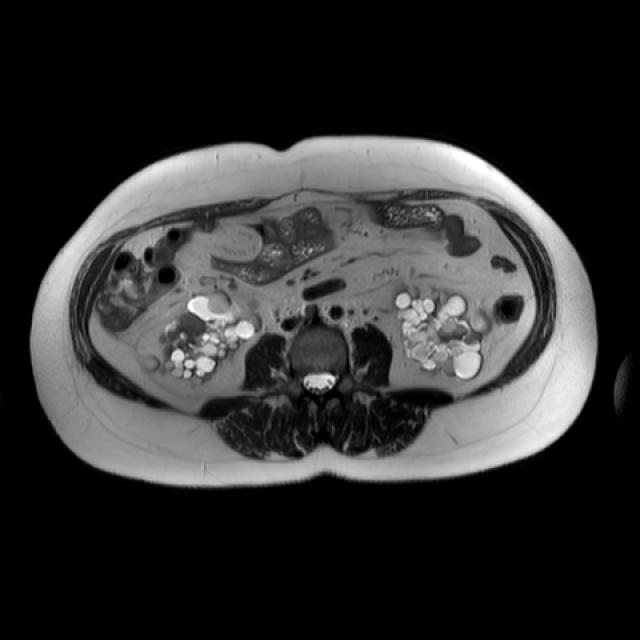sag: (144, 291, 261, 381)
sol: (398, 283, 493, 378)
